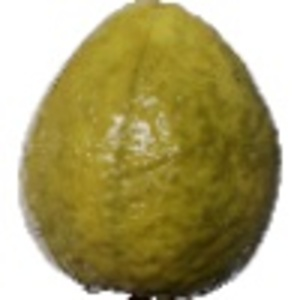goiaba: (13, 5, 281, 298)
